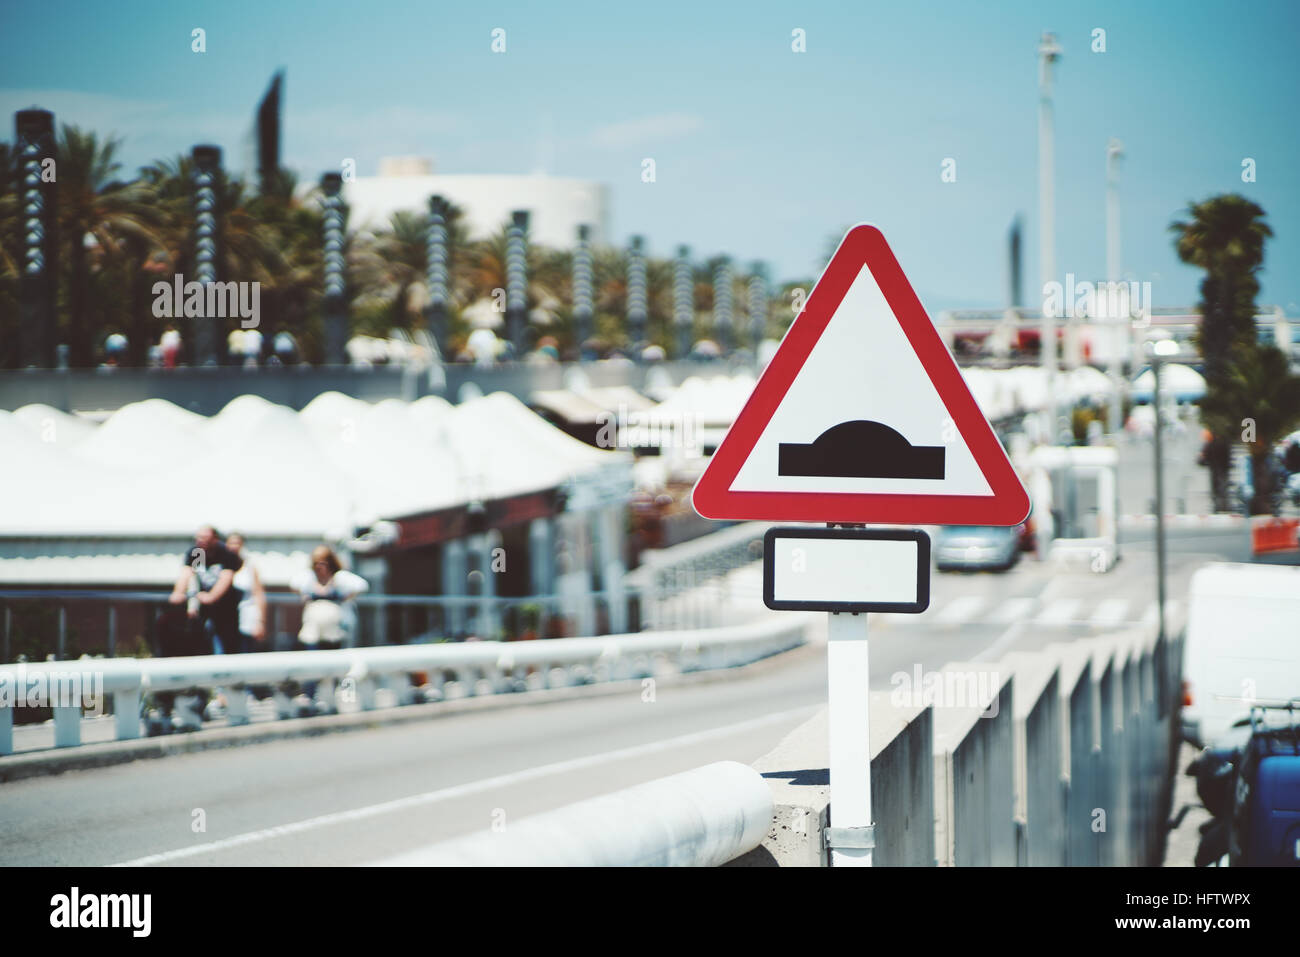speed-breaker: (692, 224, 1030, 522)
